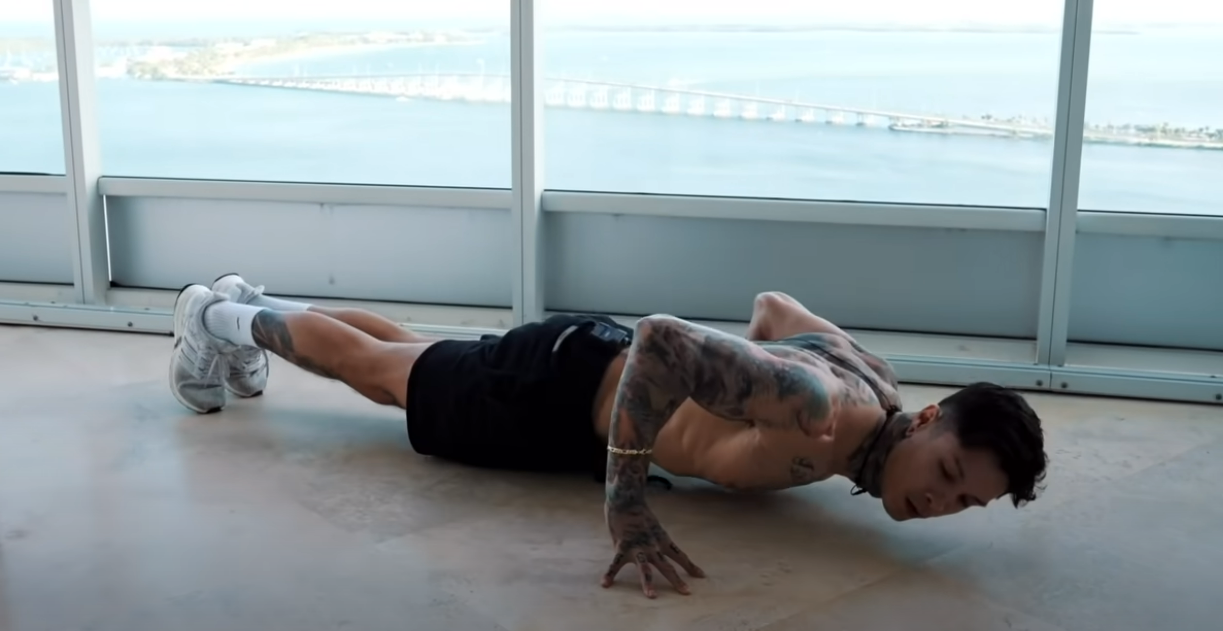down: (162, 268, 1050, 603)
